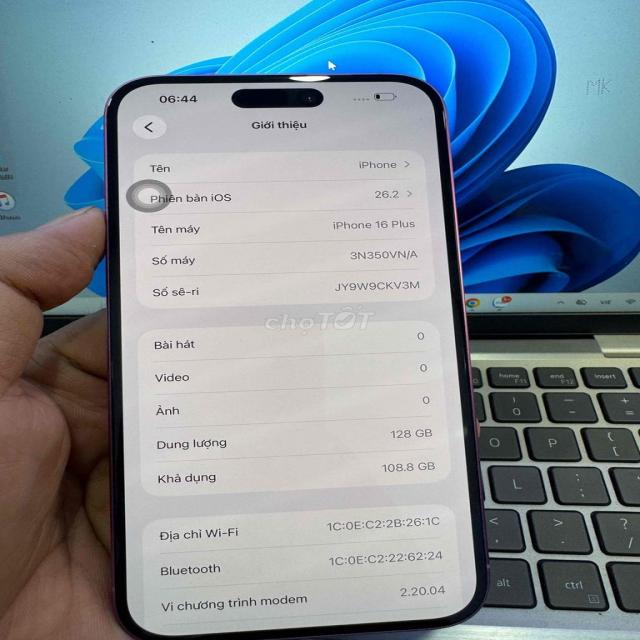gen_16: (94, 61, 496, 640)
